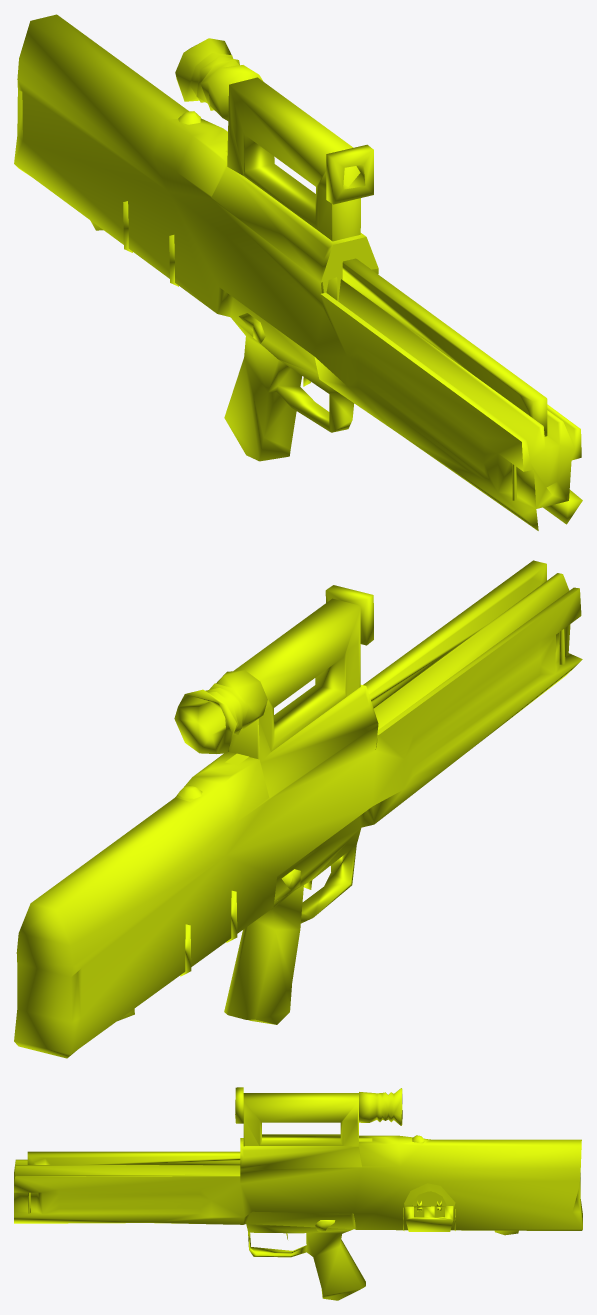
Rendered from AR1Decimated.fbx.
The picture shows the model from 3 angles, top to bottom: view 1: azimuth 30°, elevation 25°; view 2: azimuth 150°, elevation 25°; view 3: azimuth 270°, elevation 25°; orthographic projection. The views are drawn at different scales.
Visible parts, largest first — view 1: Pickup; view 2: Pickup; view 3: Pickup.
Part boxes in pixels (bbox=[...]): Pickup: bbox=[14, 14, 582, 530]; Pickup: bbox=[14, 560, 582, 1058]; Pickup: bbox=[14, 1087, 582, 1300].
Bounding box in the file's own units: 10.98 × 57.17 × 141.
